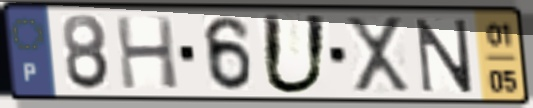6: (200, 14, 255, 94)
8: (59, 11, 112, 93)
H: (111, 14, 182, 92)
N: (413, 16, 476, 95)
U: (259, 11, 331, 98)
X: (342, 14, 414, 96)
